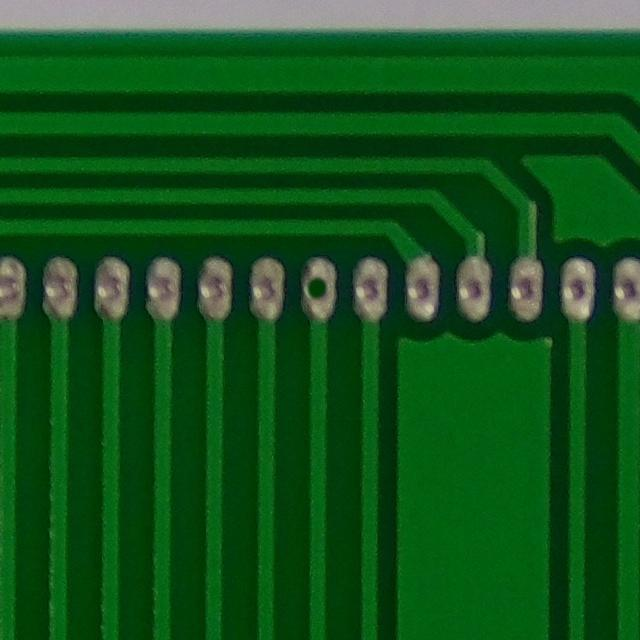missing_hole: (291, 255, 345, 319)
